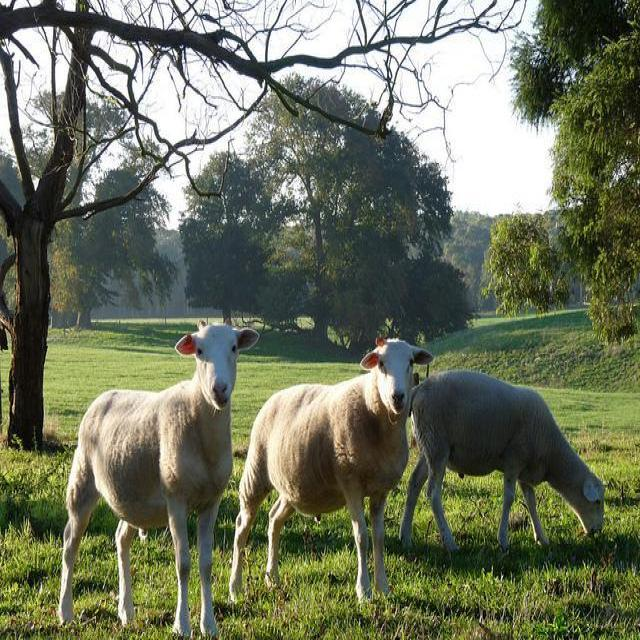Sheep: (61, 326, 262, 629), (229, 337, 435, 602), (402, 373, 605, 553)
